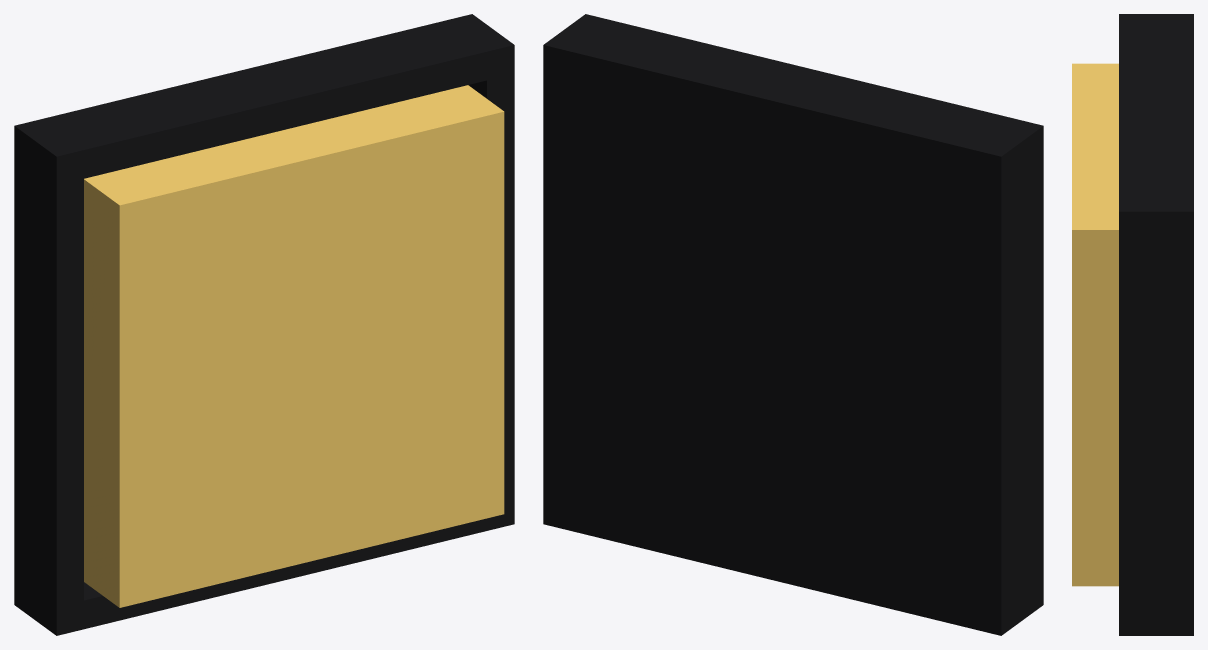
The model's file is pushbutton.glb.
The picture shows the model from 3 angles, left to right: view 1: azimuth 30°, elevation 25°; view 2: azimuth 150°, elevation 25°; view 3: azimuth 270°, elevation 25°; orthographic projection. The views are drawn at different scales.
Visible parts, largest first — view 1: pushbutton; view 2: pushbutton; view 3: pushbutton.
Boxes of the visible parts, left/top/right/bottom form: pushbutton: left=14, top=14, right=514, bottom=635; pushbutton: left=543, top=14, right=1043, bottom=635; pushbutton: left=1072, top=14, right=1193, bottom=635.
Size of the model in its own units: 0.05 by 0.05 by 0.013.
